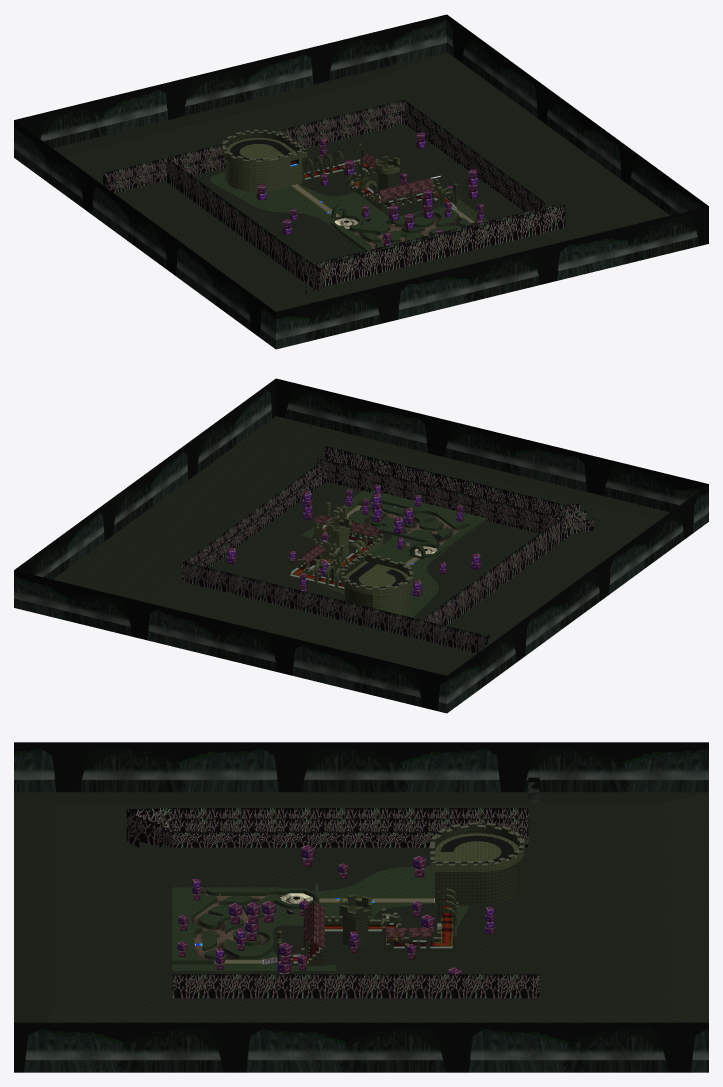
3 renders of one model, top to bottom at view 1: azimuth 30°, elevation 25°; view 2: azimuth 150°, elevation 25°; view 3: azimuth 270°, elevation 25°, orthographic. The views are drawn at different scales.
Parts seen in each view (by area): view 1: Withered_Fortress-SKP--siba_01_dv_alb, Withered_Fortress-SKP--enkei_yama, Withered_Fortress-SKP--enkei1, Withered_Fortress-SKP--Material1, Withered_Fortress-SKP--hh_drain_wall_alb, Withered_Fortress-SKP--brick_dark, Withered_Fortress-SKP--WT_block01, Withered_Fortress-SKP--hy_castleroof_alb, Withered_Fortress-SKP--kpa_kabe_hi2, Withered_Fortress-SKP--wiigv_ry_mountain_01_alb1; view 2: Withered_Fortress-SKP--enkei_yama, Withered_Fortress-SKP--siba_01_dv_alb, Withered_Fortress-SKP--enkei1, Withered_Fortress-SKP--Material1, Withered_Fortress-SKP--hh_drain_wall_alb, Withered_Fortress-SKP--WT_block01, Withered_Fortress-SKP--brick_dark, Withered_Fortress-SKP--hy_castleroof_alb, Withered_Fortress-SKP--kpa_kabe_hi2, Withered_Fortress-SKP--wiigv_ry_mountain_01_alb1; view 3: Withered_Fortress-SKP--siba_01_dv_alb, Withered_Fortress-SKP--enkei_yama, Withered_Fortress-SKP--enkei1, Withered_Fortress-SKP--Material1, Withered_Fortress-SKP--brick_dark, Withered_Fortress-SKP--WT_block01, Withered_Fortress-SKP--hh_drain_wall_alb, Withered_Fortress-SKP--hy_castleroof_alb, Withered_Fortress-SKP--wiigv_ry_mountain_01_alb1, Withered_Fortress-SKP--Material4, Withered_Fortress-SKP--kpa_kabe_hi2, Withered_Fortress-SKP--road_a1 (+1 smaller).
Boxes of the visible parts, x1,y1,x2,y2 form: Withered_Fortress-SKP--siba_01_dv_alb: (53,52,669,311); Withered_Fortress-SKP--enkei_yama: (14,14,708,349); Withered_Fortress-SKP--enkei1: (103,99,565,295); Withered_Fortress-SKP--Material1: (210,171,488,250); Withered_Fortress-SKP--hh_drain_wall_alb: (222,138,457,211); Withered_Fortress-SKP--brick_dark: (222,130,457,211); Withered_Fortress-SKP--WT_block01: (256,132,483,235); Withered_Fortress-SKP--hy_castleroof_alb: (360,154,439,201); Withered_Fortress-SKP--kpa_kabe_hi2: (222,129,451,206); Withered_Fortress-SKP--wiigv_ry_mountain_01_alb1: (346,214,476,248); Withered_Fortress-SKP--enkei_yama: (14,378,708,713); Withered_Fortress-SKP--siba_01_dv_alb: (53,416,669,675); Withered_Fortress-SKP--enkei1: (182,446,594,653); Withered_Fortress-SKP--Material1: (301,490,486,617); Withered_Fortress-SKP--hh_drain_wall_alb: (287,502,413,615); Withered_Fortress-SKP--WT_block01: (227,484,481,596); Withered_Fortress-SKP--brick_dark: (289,506,413,607); Withered_Fortress-SKP--hy_castleroof_alb: (296,514,383,563); Withered_Fortress-SKP--kpa_kabe_hi2: (298,510,413,589); Withered_Fortress-SKP--wiigv_ry_mountain_01_alb1: (358,501,466,549); Withered_Fortress-SKP--siba_01_dv_alb: (14,792,708,1022); Withered_Fortress-SKP--enkei_yama: (14,742,708,1072); Withered_Fortress-SKP--enkei1: (126,808,539,998); Withered_Fortress-SKP--Material1: (172,865,469,970); Withered_Fortress-SKP--brick_dark: (277,823,524,967); Withered_Fortress-SKP--WT_block01: (177,845,494,974); Withered_Fortress-SKP--hh_drain_wall_alb: (277,833,524,956); Withered_Fortress-SKP--hy_castleroof_alb: (303,901,433,949); Withered_Fortress-SKP--wiigv_ry_mountain_01_alb1: (192,894,284,960); Withered_Fortress-SKP--Material4: (290,906,452,961); Withered_Fortress-SKP--kpa_kabe_hi2: (290,822,524,959); Withered_Fortress-SKP--road_a1: (214,897,434,964).
Size of the model in its own units: 197449 by 17793 by 206902.
Materials: 39 (38 with a texture image).
